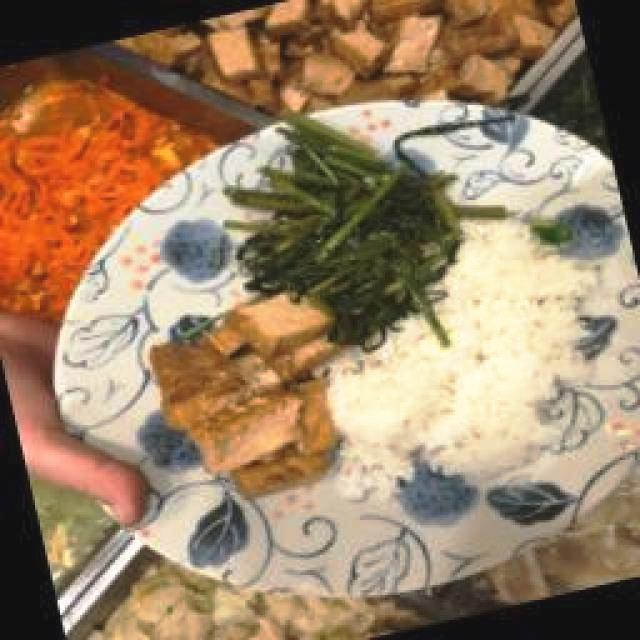carrot_eggs: (0, 82, 192, 234)
rice: (341, 217, 588, 496)
water_spinach: (226, 108, 469, 349)
